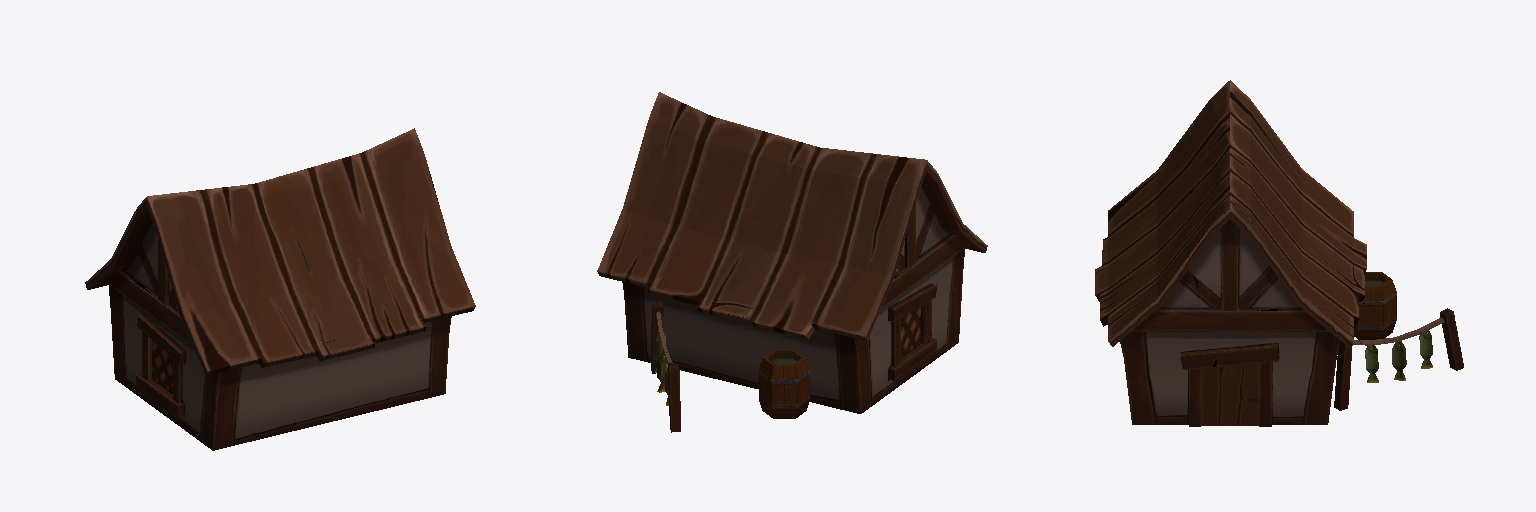
3 views of the same model, side by side, from view 1: azimuth 30°, elevation 25°; view 2: azimuth 150°, elevation 25°; view 3: azimuth 270°, elevation 25° (orthographic).
Visible parts, largest first — view 1: Cube.000, Cube.004_Cube.003; view 2: Cube.000, Cube.004_Cube.003, Cylinder, Cube.001; view 3: Cube.000, Cube.004_Cube.003, Cube.006, Cylinder, Cube.001.
Part boxes in pixels (x1,y1,x2,y2): Cube.000: (85,128,475,375); Cube.004_Cube.003: (109,285,451,450); Cube.000: (597,92,987,340); Cube.004_Cube.003: (622,249,964,413); Cylinder: (759,350,809,418); Cube.001: (651,301,680,432); Cube.000: (1095,80,1366,347); Cube.004_Cube.003: (1120,332,1339,426); Cube.006: (1201,363,1258,425); Cylinder: (1354,272,1396,339); Cube.001: (1334,308,1463,410).
Bounding box in the file's own units: 3.85 × 3.11 × 4.59.
Materials: 6 (6 with a texture image).